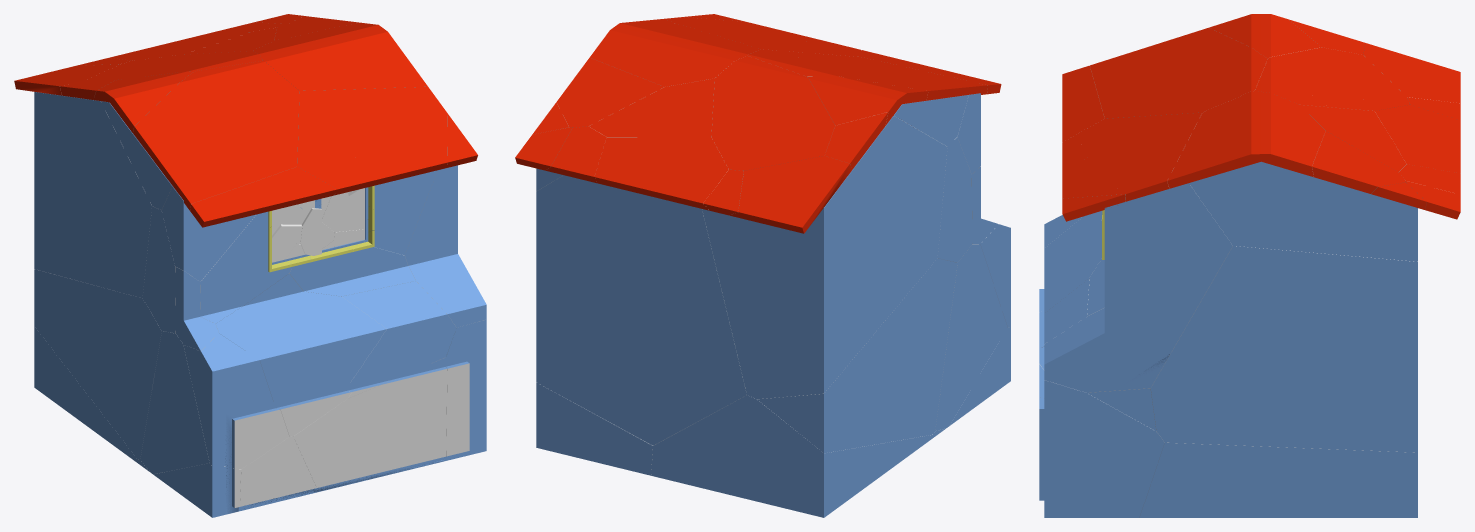
The model's file is PinkBuildingBroken .fbx.
3 views of the same model, side by side, from view 1: azimuth 30°, elevation 25°; view 2: azimuth 150°, elevation 25°; view 3: azimuth 270°, elevation 25° (orthographic). The views are drawn at different scales.
Visible parts, largest first — view 1: JapaneseResidentialHome_02.019_cell.013, JapaneseResidentialHome_02.019_cell.014, JapaneseResidentialHome_02.019_cell.001, JapaneseResidentialHome_02.001_cell.012, JapaneseResidentialHome_02.019_cell.023, JapaneseResidentialHome_02.019_cell.018, JapaneseResidentialHome_02.001_cell.011, JapaneseResidentialHome_02.019_cell.005, JapaneseResidentialHome_02.019_cell.015, JapaneseResidentialHome_02.019_cell.007, JapaneseResidentialHome_02.019_cell.017, JapaneseResidentialHome_02.019_cell.013_cell.061 (+58 smaller); view 2: JapaneseResidentialHome_02.019_cell.024, JapaneseResidentialHome_02.019_cell.013, JapaneseResidentialHome_02.019_cell.019, JapaneseResidentialHome_02.019_cell.013_cell.057, JapaneseResidentialHome_02.019_cell.001, JapaneseResidentialHome_02.001_cell.005, JapaneseResidentialHome_02.001_cell.001, JapaneseResidentialHome_02.019_cell.016, JapaneseResidentialHome_02.001_cell.006, JapaneseResidentialHome_02.001_cell.016, JapaneseResidentialHome_02.019_cell.022, JapaneseResidentialHome_02.019_cell.013_cell.061 (+35 smaller); view 3: JapaneseResidentialHome_02.019_cell.024, JapaneseResidentialHome_02.019_cell.007, JapaneseResidentialHome_02.019_cell.022, JapaneseResidentialHome_02.019_cell.003, JapaneseResidentialHome_02.019_cell.020, JapaneseResidentialHome_02.001_cell.012, JapaneseResidentialHome_02.001_cell.016, JapaneseResidentialHome_02.001_cell.011, JapaneseResidentialHome_02.001_cell.005, JapaneseResidentialHome_02.001_cell.001, JapaneseResidentialHome_02.001_cell.006, JapaneseResidentialHome_02.001_cell.002 (+34 smaller).
Part boxes in pixels (left/top/right/bottom): JapaneseResidentialHome_02.019_cell.013: left=34, top=92, right=151, bottom=298; JapaneseResidentialHome_02.019_cell.014: left=293, top=357, right=447, bottom=492; JapaneseResidentialHome_02.019_cell.001: left=34, top=269, right=161, bottom=459; JapaneseResidentialHome_02.001_cell.012: left=133, top=61, right=298, bottom=210; JapaneseResidentialHome_02.019_cell.023: left=216, top=273, right=386, bottom=436; JapaneseResidentialHome_02.019_cell.018: left=183, top=333, right=289, bottom=469; JapaneseResidentialHome_02.001_cell.011: left=297, top=87, right=447, bottom=194; JapaneseResidentialHome_02.019_cell.005: left=142, top=206, right=292, bottom=333; JapaneseResidentialHome_02.019_cell.015: left=342, top=281, right=456, bottom=398; JapaneseResidentialHome_02.019_cell.007: left=405, top=165, right=481, bottom=324; JapaneseResidentialHome_02.019_cell.017: left=225, top=358, right=473, bottom=514; JapaneseResidentialHome_02.019_cell.013_cell.061: left=56, top=95, right=121, bottom=220; JapaneseResidentialHome_02.019_cell.024: left=536, top=175, right=746, bottom=445; JapaneseResidentialHome_02.019_cell.013: left=702, top=116, right=947, bottom=399; JapaneseResidentialHome_02.019_cell.019: left=651, top=395, right=932, bottom=517; JapaneseResidentialHome_02.019_cell.013_cell.057: left=714, top=248, right=882, bottom=373; JapaneseResidentialHome_02.019_cell.001: left=758, top=258, right=957, bottom=453; JapaneseResidentialHome_02.001_cell.005: left=711, top=56, right=834, bottom=170; JapaneseResidentialHome_02.001_cell.001: left=594, top=137, right=728, bottom=210; JapaneseResidentialHome_02.019_cell.016: left=935, top=244, right=1007, bottom=430; JapaneseResidentialHome_02.001_cell.006: left=729, top=156, right=852, bottom=233; JapaneseResidentialHome_02.001_cell.016: left=590, top=19, right=760, bottom=86; JapaneseResidentialHome_02.019_cell.022: left=536, top=382, right=653, bottom=475; JapaneseResidentialHome_02.019_cell.013_cell.061: left=847, top=116, right=916, bottom=255; JapaneseResidentialHome_02.019_cell.024: left=1150, top=246, right=1417, bottom=452; JapaneseResidentialHome_02.019_cell.007: left=1044, top=183, right=1232, bottom=392; JapaneseResidentialHome_02.019_cell.022: left=1139, top=442, right=1417, bottom=517; JapaneseResidentialHome_02.019_cell.003: left=1189, top=161, right=1417, bottom=261; JapaneseResidentialHome_02.019_cell.020: left=1039, top=380, right=1164, bottom=517; JapaneseResidentialHome_02.001_cell.012: left=1090, top=27, right=1267, bottom=118; JapaneseResidentialHome_02.001_cell.016: left=1167, top=91, right=1325, bottom=188; JapaneseResidentialHome_02.001_cell.011: left=1062, top=114, right=1201, bottom=201; JapaneseResidentialHome_02.001_cell.005: left=1255, top=47, right=1409, bottom=110; JapaneseResidentialHome_02.001_cell.001: left=1375, top=105, right=1460, bottom=173; JapaneseResidentialHome_02.001_cell.006: left=1363, top=43, right=1460, bottom=103; JapaneseResidentialHome_02.001_cell.002: left=1312, top=131, right=1405, bottom=193.
Bounding box in the file's own units: 581 × 702 × 737.
